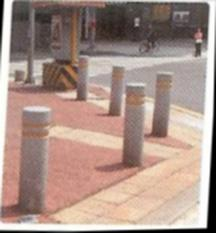Animal: (9, 99, 55, 207), (122, 82, 145, 166), (153, 68, 172, 134), (107, 62, 127, 117), (78, 57, 92, 101)
